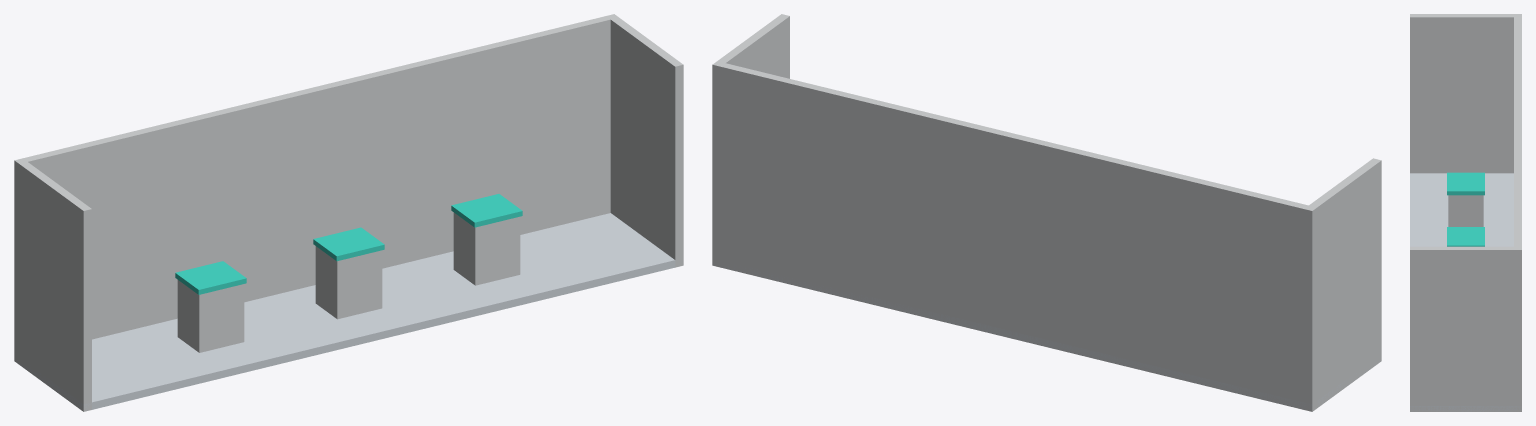
The picture shows the model from 3 angles, left to right: view 1: azimuth 30°, elevation 25°; view 2: azimuth 150°, elevation 25°; view 3: azimuth 270°, elevation 25°; orthographic projection. The views are drawn at different scales.
Visible parts, largest first — view 1: Exhibition Booth Concept; view 2: Exhibition Booth Concept; view 3: Exhibition Booth Concept.
Part boxes in pixels (x1,y1,x2,y2): Exhibition Booth Concept: [14, 14, 683, 411]; Exhibition Booth Concept: [712, 14, 1381, 411]; Exhibition Booth Concept: [1410, 14, 1521, 411].
Size of the model in its own units: 10 by 3.2 by 2.
